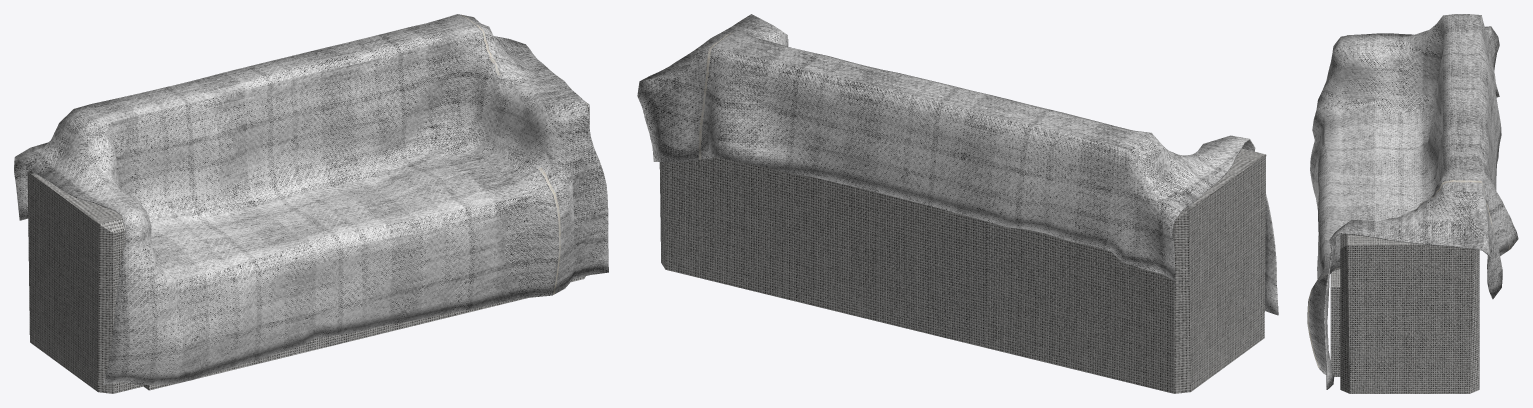
File: LivingRoom_Sofa.fbx
3 views of the same model, side by side, from view 1: azimuth 30°, elevation 25°; view 2: azimuth 150°, elevation 25°; view 3: azimuth 270°, elevation 25° (orthographic). The views are drawn at different scales.
Visible parts, largest first — view 1: Sofa; view 2: Sofa; view 3: Sofa.
Part boxes in pixels (bbox=[...]): Sofa: bbox=[14, 14, 608, 393]; Sofa: bbox=[637, 14, 1278, 393]; Sofa: bbox=[1307, 14, 1518, 393].
Size of the model in its own units: 0.4658 by 0.1927 by 0.1912.
